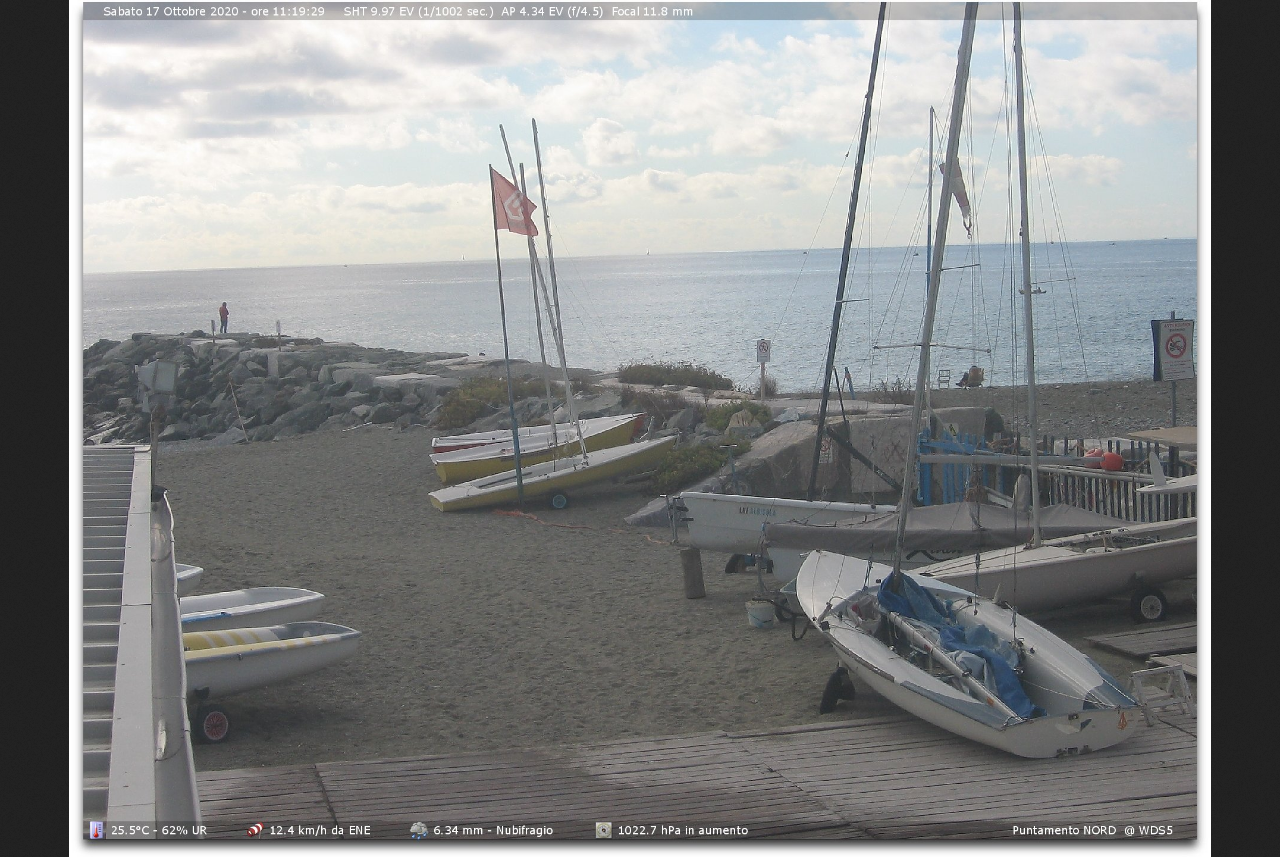yes: (485, 162, 540, 236)
